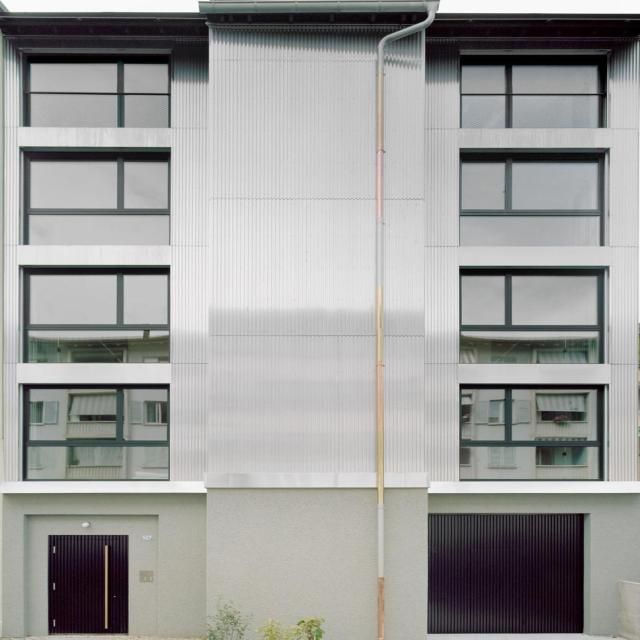door: (428, 513, 586, 632), (49, 536, 132, 632)
wall: (0, 0, 640, 636)
windows: (27, 384, 174, 476), (26, 153, 172, 244), (461, 386, 602, 479), (24, 271, 168, 361), (458, 271, 600, 362), (460, 154, 604, 242), (30, 61, 173, 126), (464, 61, 603, 125)
